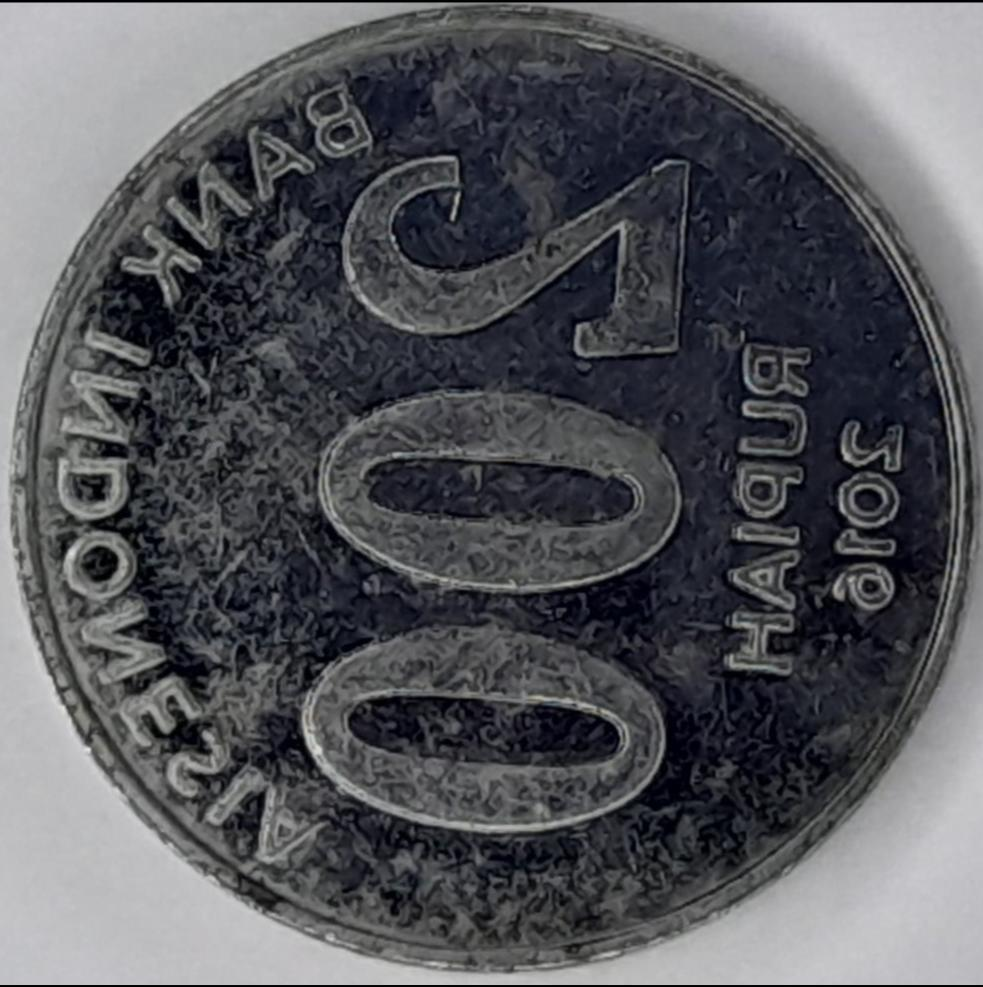coin_200_e2016: (0, 17, 983, 987)
